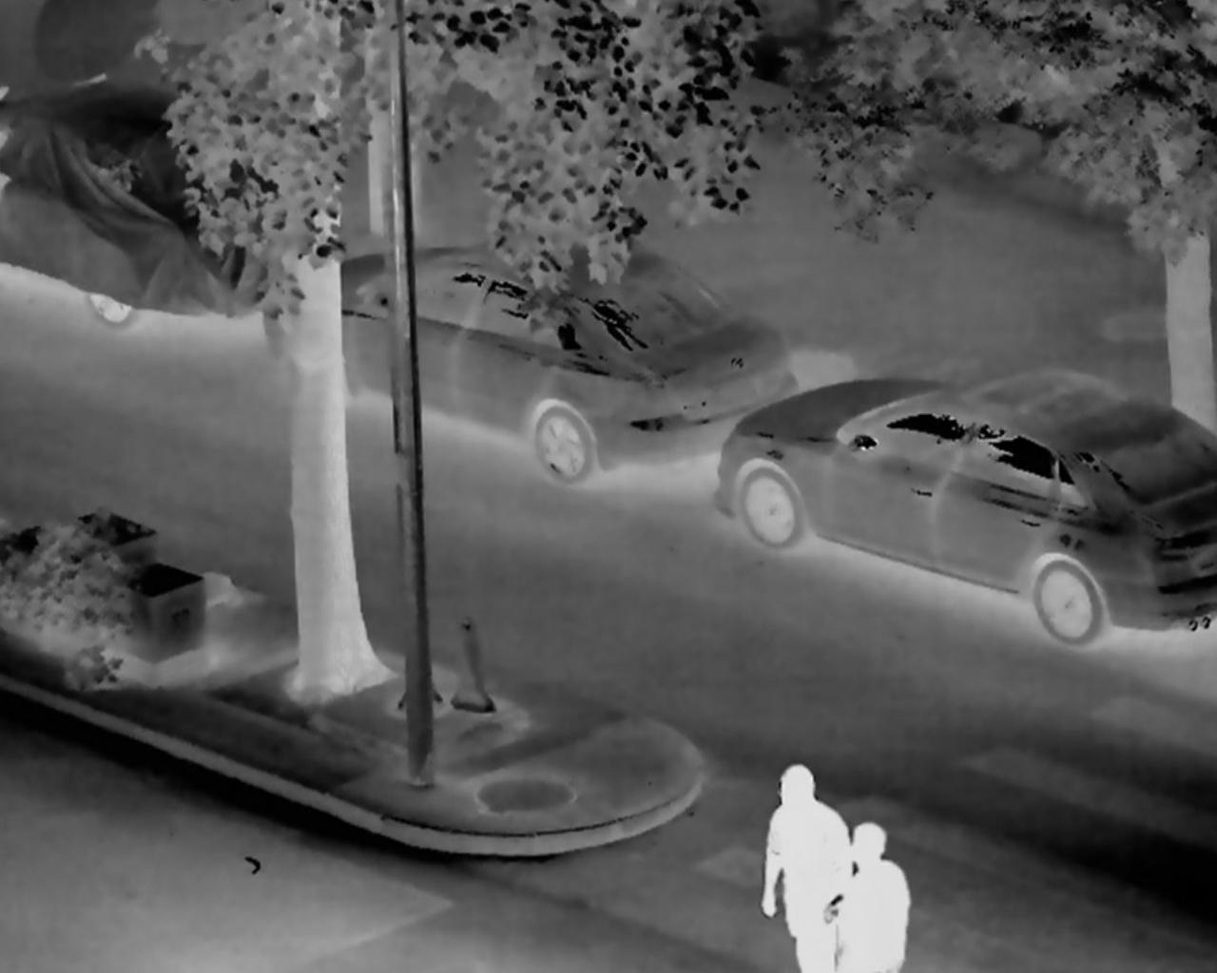person: (754, 758, 856, 973), (847, 817, 921, 973)
